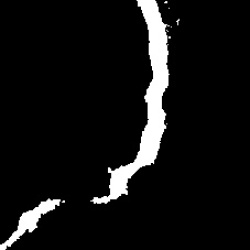crack: (92, 3, 181, 206), (1, 200, 65, 247)
